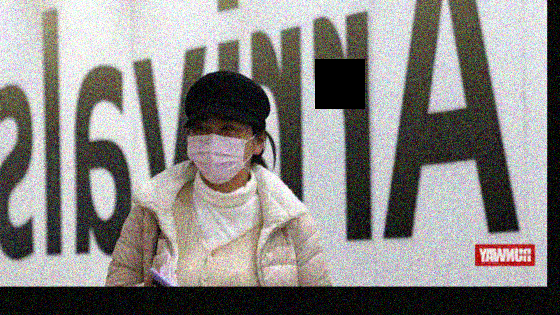with_mask: (186, 124, 254, 183)
